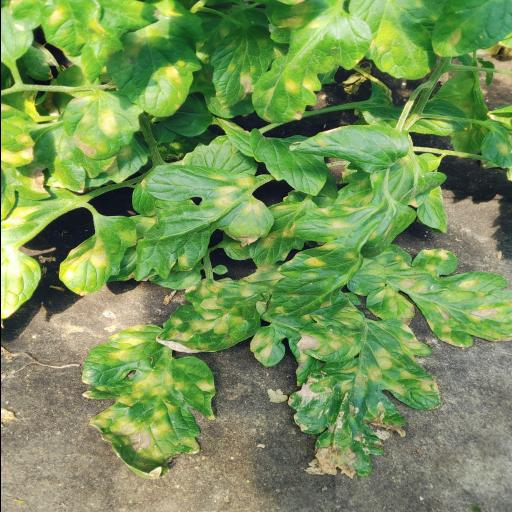Leaf Mold: (286, 318, 442, 478), (254, 174, 417, 321), (78, 326, 216, 482), (106, 164, 274, 282), (365, 244, 512, 348), (250, 0, 372, 124), (105, 0, 202, 118), (160, 278, 262, 354), (58, 216, 138, 296), (62, 91, 144, 160)
